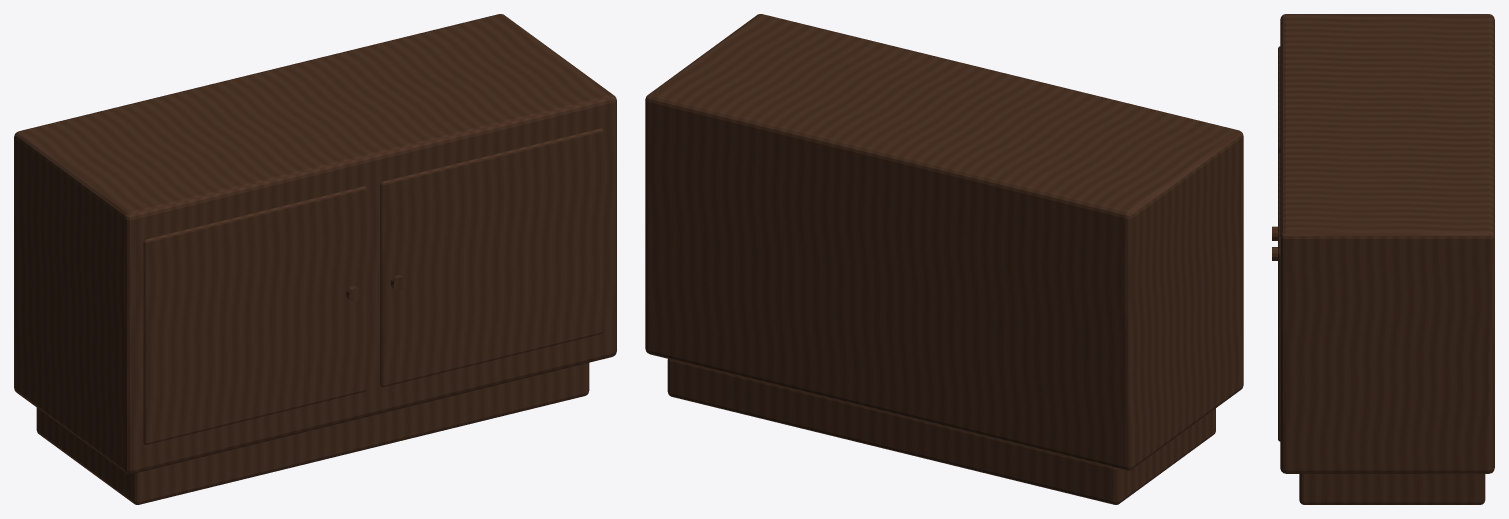
The model's file is FUR_TVCabinet.fbx.
3 views of the same model, side by side, from view 1: azimuth 30°, elevation 25°; view 2: azimuth 150°, elevation 25°; view 3: azimuth 270°, elevation 25° (orthographic). The views are drawn at different scales.
Parts seen in each view (by area): view 1: TVCabinet_Body; view 2: TVCabinet_Body; view 3: TVCabinet_Body.
Part boxes in pixels (box(x1,y1,x2,y2)): TVCabinet_Body: box(14, 14, 616, 504); TVCabinet_Body: box(645, 14, 1243, 504); TVCabinet_Body: box(1272, 14, 1494, 504).
Bounding box in the file's own units: 110 × 65 × 46.7.
